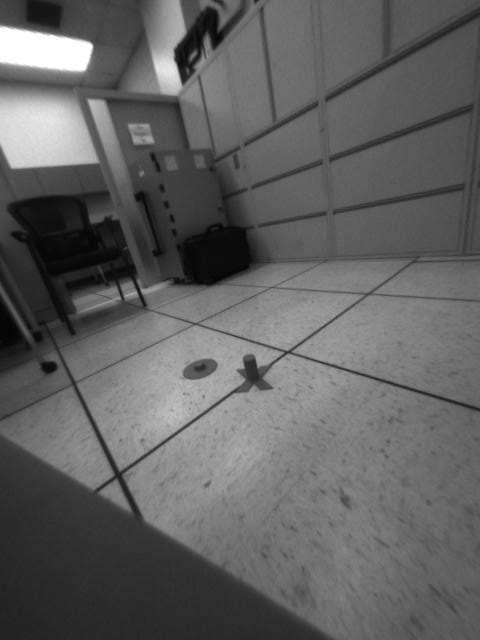X: (233, 352, 275, 393)
